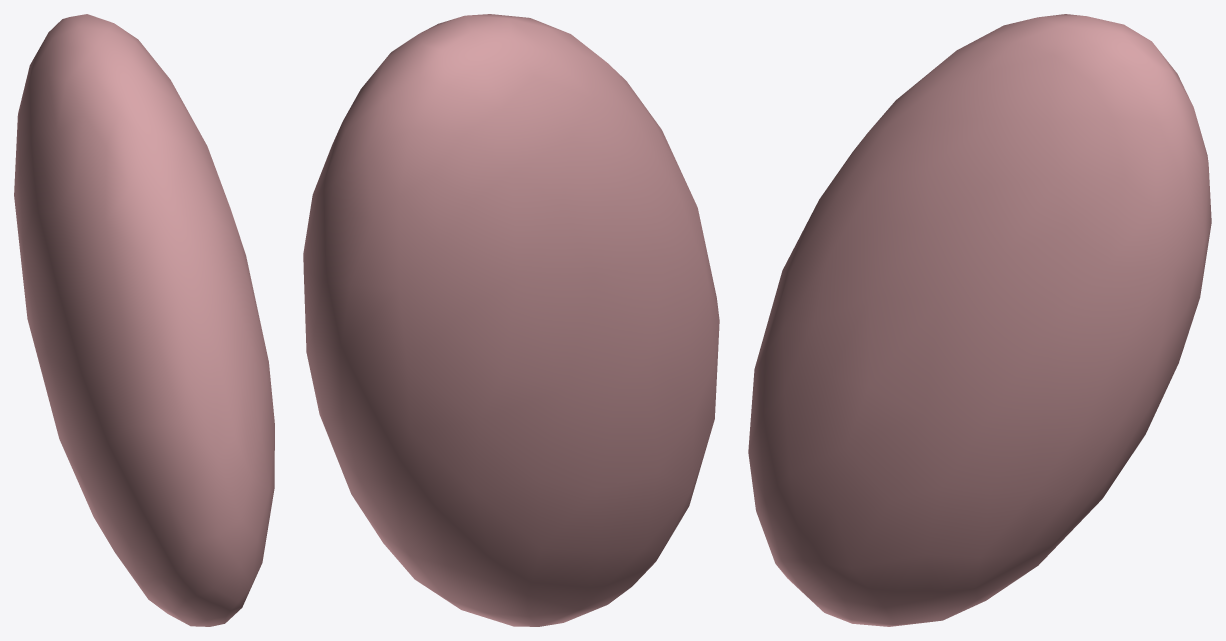
The model's file is fma75260_mm3322.glb.
3 views of the same model, side by side, from view 1: azimuth 30°, elevation 25°; view 2: azimuth 150°, elevation 25°; view 3: azimuth 270°, elevation 25° (orthographic). The views are drawn at different scales.
Parts seen in each view (by area): view 1: FMA75260_MM3322; view 2: FMA75260_MM3322; view 3: FMA75260_MM3322.
Boxes of the visible parts, x1,y1,x2,y2 form: FMA75260_MM3322: [14, 14, 274, 626]; FMA75260_MM3322: [303, 14, 719, 626]; FMA75260_MM3322: [748, 14, 1211, 626].
Size of the model in its own units: 0.00105 by 0.00252 by 0.00179.
